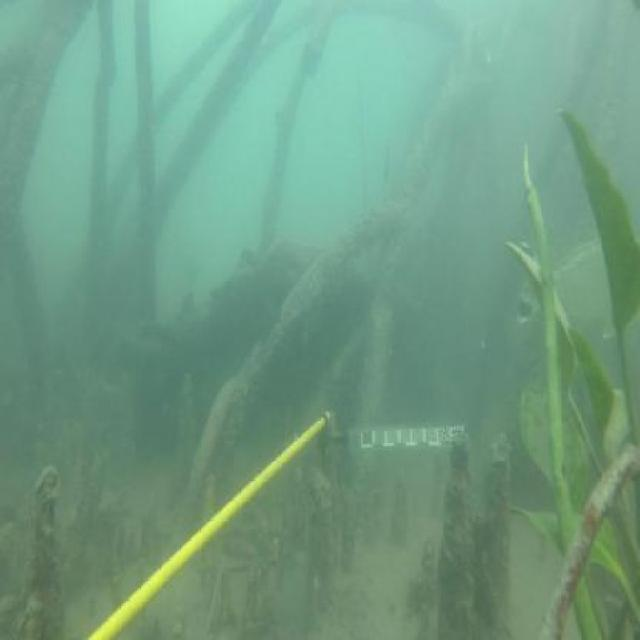Amniataba_caudivittatus: (514, 231, 640, 340)
